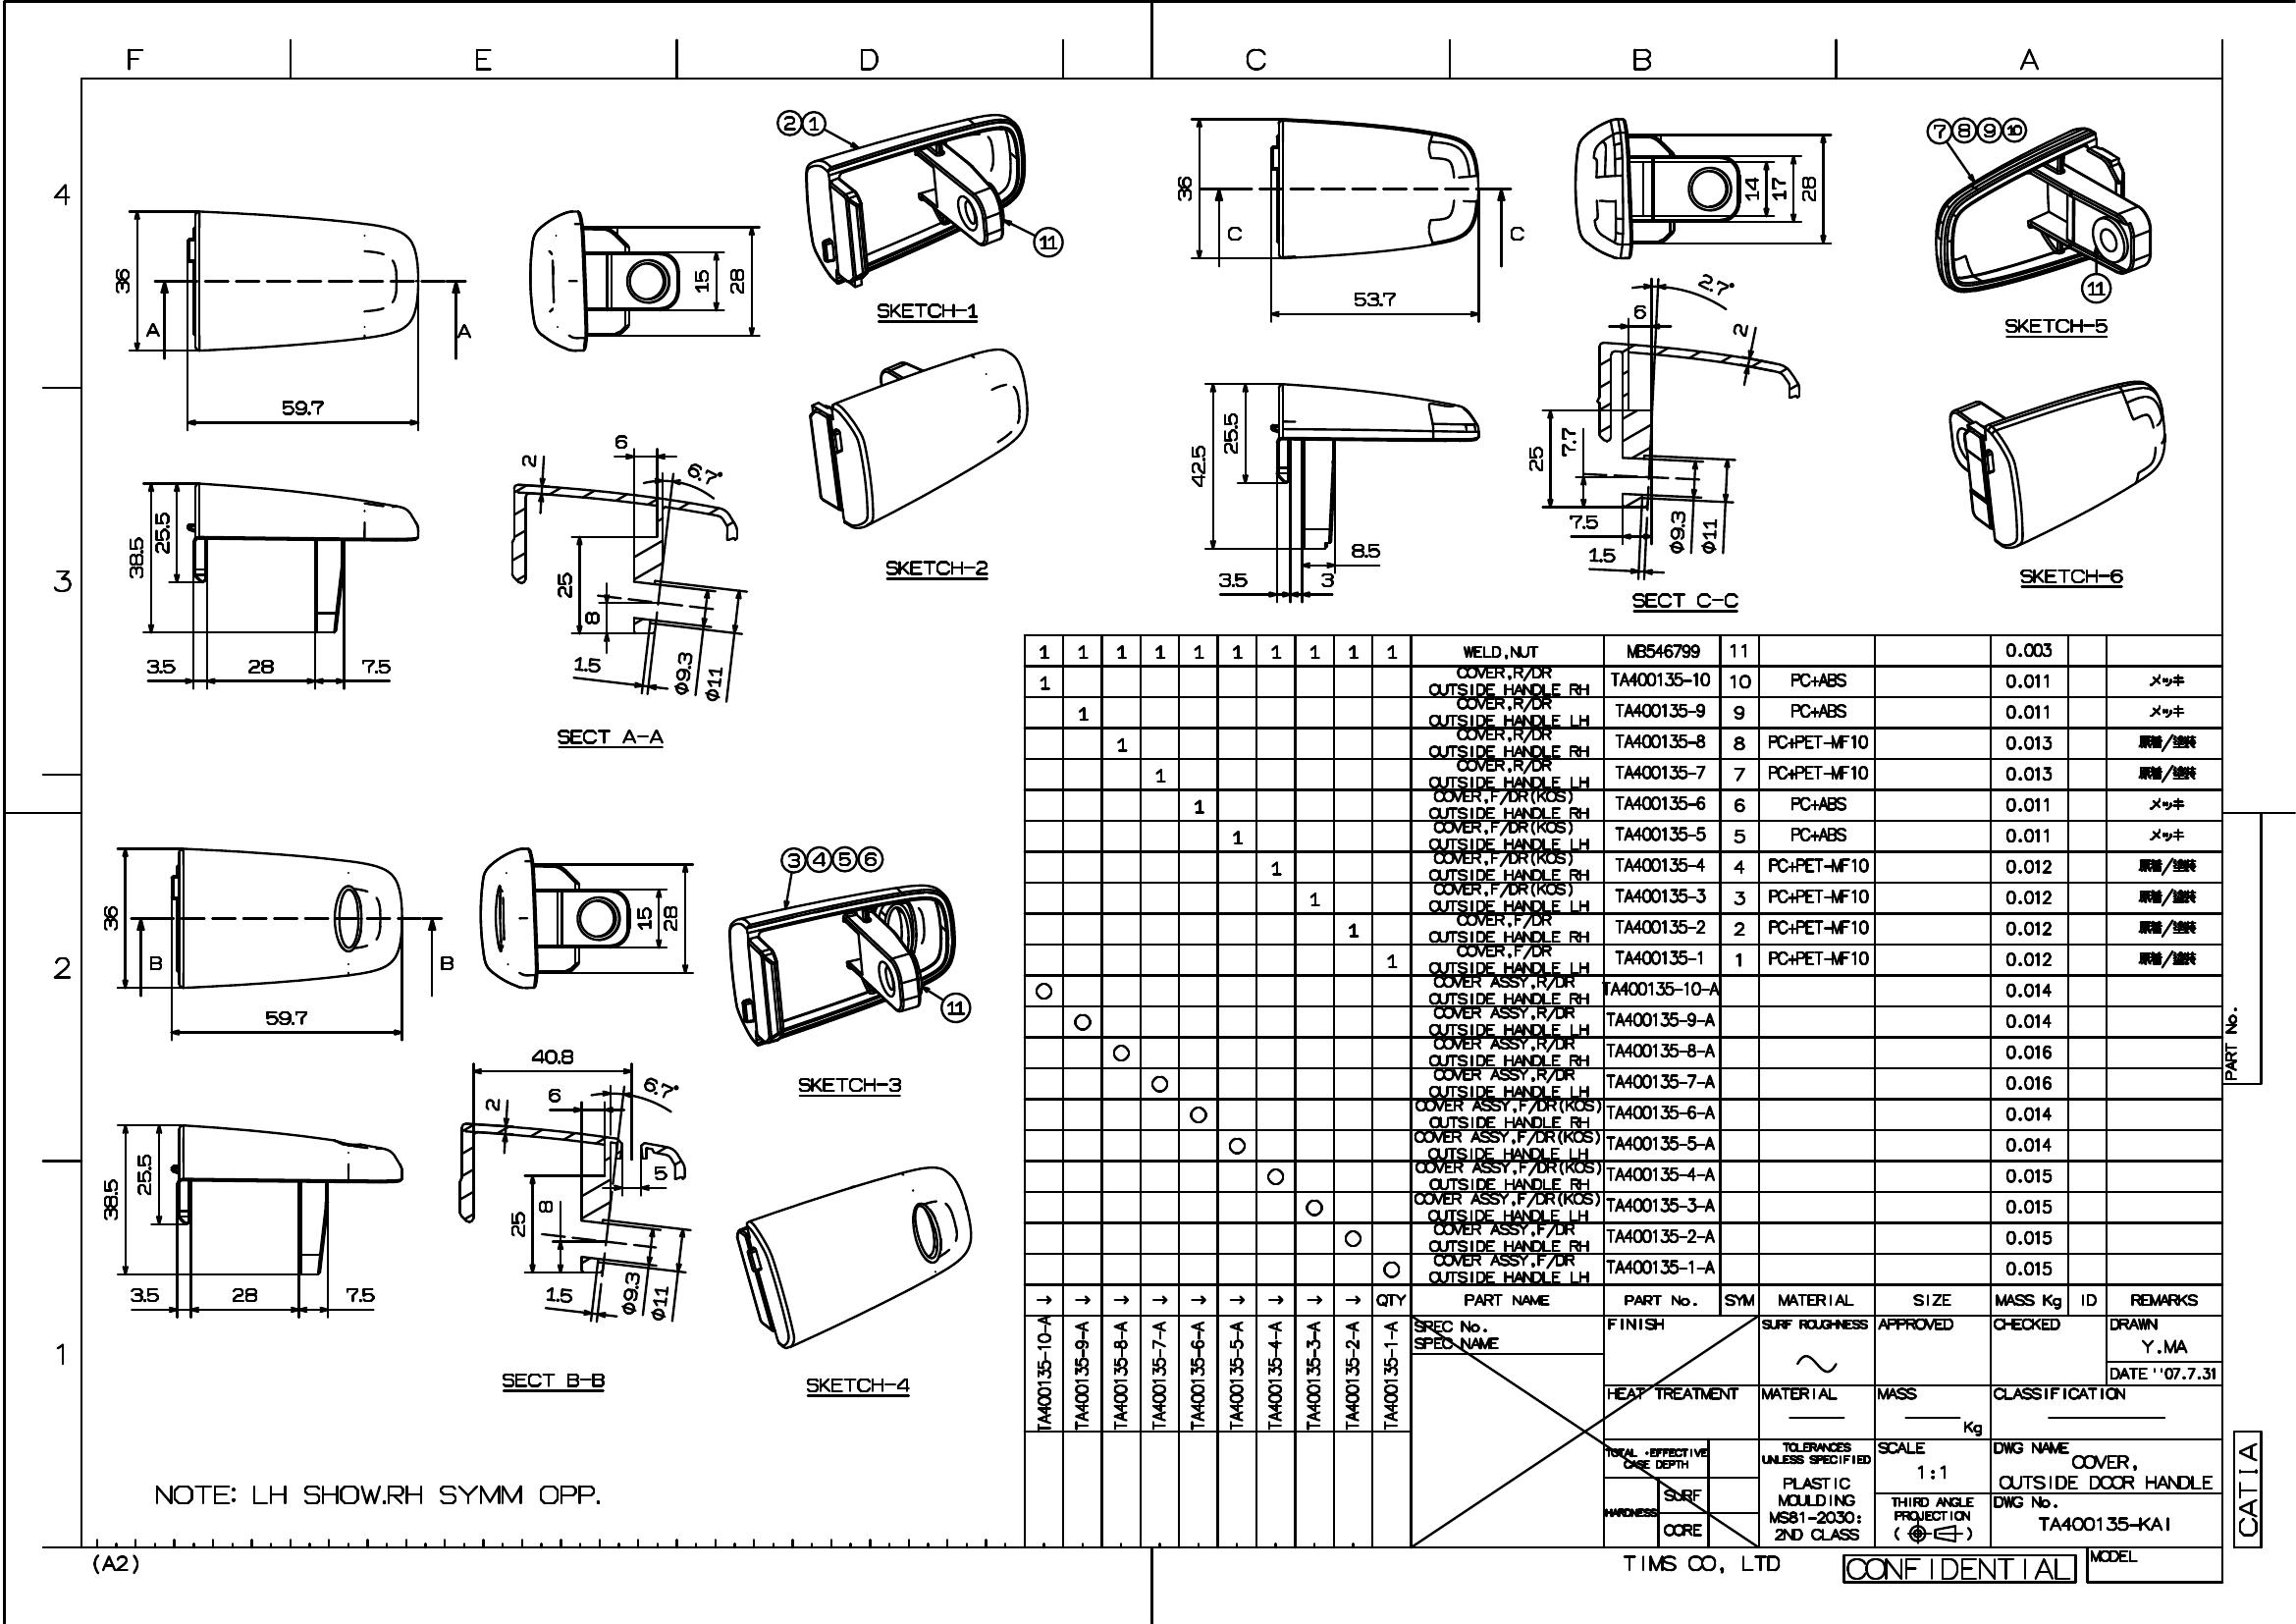anntotation_text: (155, 1482, 603, 1508), (1841, 1554, 2075, 1584), (1621, 1552, 1780, 1575), (2233, 1429, 2263, 1548), (1627, 587, 1743, 615), (2015, 562, 2124, 589), (2001, 313, 2110, 339), (557, 724, 664, 749), (884, 555, 989, 580), (875, 299, 978, 323), (796, 1074, 903, 1097), (499, 1369, 604, 1392), (806, 1374, 910, 1396), (90, 1550, 141, 1577), (2078, 271, 2113, 304), (940, 991, 971, 1023), (1033, 225, 1063, 258), (856, 845, 884, 874), (2001, 114, 2027, 144), (799, 109, 826, 137), (1925, 116, 1952, 144), (780, 845, 806, 874), (831, 847, 857, 874), (775, 109, 799, 137), (1952, 116, 1976, 144), (1976, 116, 2001, 144), (806, 845, 831, 874), (1224, 221, 1244, 244), (1507, 223, 1527, 244), (144, 320, 162, 339), (437, 953, 455, 972), (148, 953, 163, 972), (455, 323, 471, 339)
dimension_text: (1219, 410, 1244, 459), (278, 397, 327, 418), (657, 663, 708, 682), (1655, 522, 1699, 543), (262, 1007, 309, 1026), (529, 1048, 574, 1067), (1693, 274, 1734, 295), (608, 1283, 652, 1302), (153, 511, 172, 555), (1690, 524, 1727, 547), (1354, 290, 1397, 309), (100, 1176, 118, 1222), (126, 534, 144, 580), (639, 1294, 680, 1313), (135, 1151, 153, 1195), (1189, 443, 1207, 487), (643, 1077, 678, 1098), (504, 1209, 529, 1239), (1767, 172, 1792, 202), (1558, 425, 1581, 457), (1565, 510, 1597, 533), (1586, 543, 1618, 566), (142, 656, 177, 675), (696, 673, 731, 692), (1214, 571, 1249, 591), (358, 656, 392, 675), (687, 464, 720, 483), (1349, 540, 1383, 559), (1741, 176, 1764, 204), (1525, 443, 1546, 473), (228, 1285, 260, 1304), (661, 902, 680, 933), (112, 264, 132, 295), (553, 571, 574, 599), (1799, 174, 1818, 204), (128, 1285, 160, 1302), (344, 1285, 376, 1302), (634, 905, 655, 932), (727, 267, 747, 295), (1173, 174, 1193, 202), (573, 656, 603, 673), (546, 1287, 573, 1306), (102, 902, 118, 933), (246, 657, 274, 675), (690, 269, 708, 292), (580, 608, 601, 626), (652, 1160, 668, 1183), (1630, 302, 1650, 320), (520, 452, 538, 469), (546, 1084, 562, 1104), (1319, 568, 1335, 587), (1730, 322, 1750, 337), (613, 431, 627, 450), (536, 1197, 552, 1213), (485, 1097, 499, 1113)
object: (734, 1165, 973, 1350), (805, 348, 1029, 531), (803, 112, 1028, 288), (727, 884, 957, 1049), (1932, 123, 2152, 294), (1948, 380, 2168, 550), (455, 1120, 689, 1276), (183, 482, 422, 634), (167, 1123, 404, 1276), (1267, 381, 1481, 550), (509, 482, 740, 634), (1595, 339, 1801, 510), (167, 844, 404, 990), (183, 209, 420, 353), (1267, 116, 1481, 258), (1572, 116, 1743, 258), (527, 207, 682, 353), (480, 847, 631, 991)
title_block: (1021, 631, 2224, 1550)
